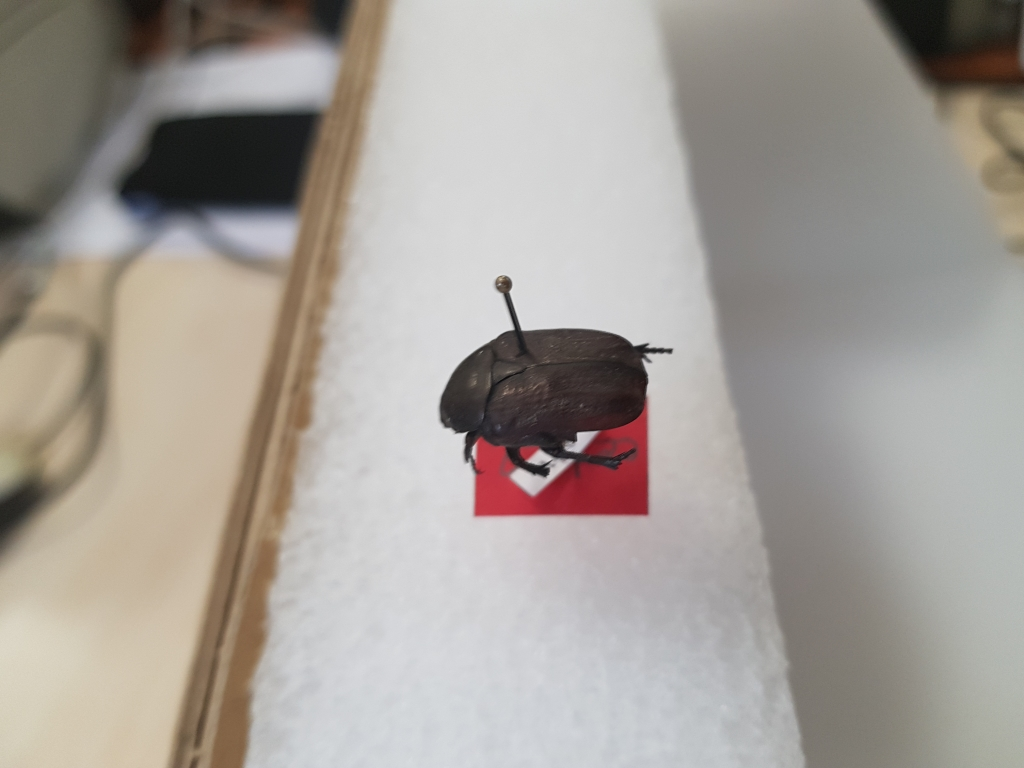Protaetia_asiatica: (435, 320, 680, 481)
